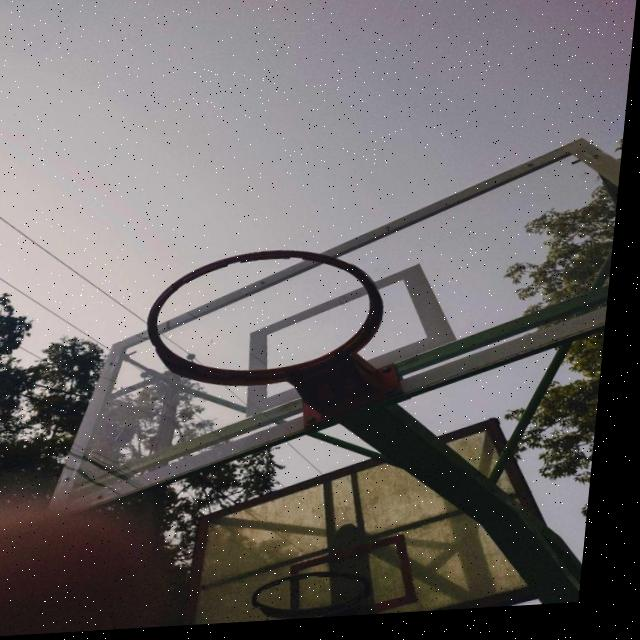hoop: (139, 233, 388, 454)
